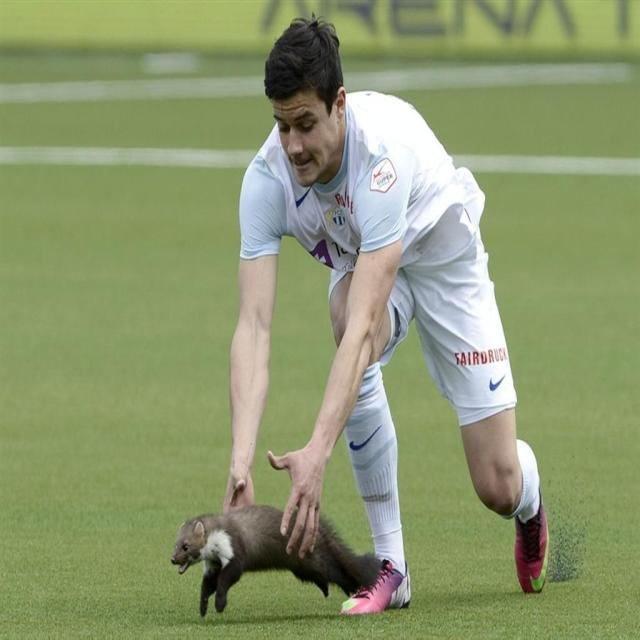Face: (270, 89, 347, 188)
